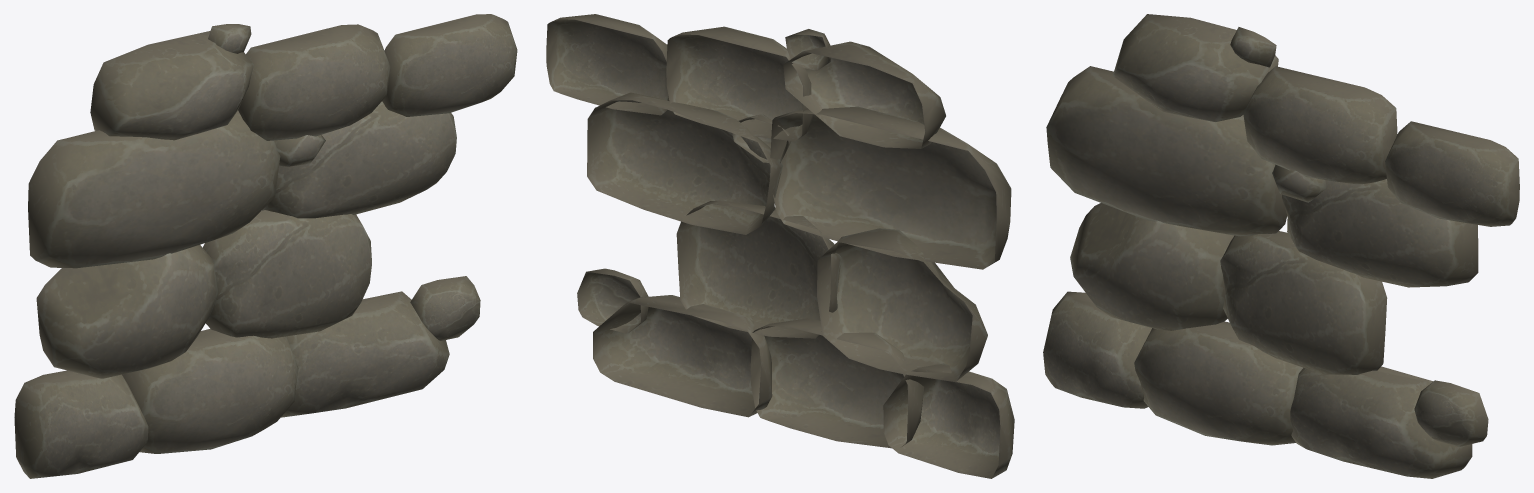
Rendered from MSH_fwOF_Ruins_Wall_Bricks_06.fbx.
3 views of the same model, side by side, from view 1: azimuth 30°, elevation 25°; view 2: azimuth 150°, elevation 25°; view 3: azimuth 330°, elevation 25° (orthographic). The views are drawn at different scales.
Parts seen in each view (by area): view 1: MSH_fwOF_Ruins_Wall_Bricks_06; view 2: MSH_fwOF_Ruins_Wall_Bricks_06; view 3: MSH_fwOF_Ruins_Wall_Bricks_06.
Part boxes in pixels (x1,y1,x2,y2): MSH_fwOF_Ruins_Wall_Bricks_06: [14, 14, 517, 478]; MSH_fwOF_Ruins_Wall_Bricks_06: [546, 14, 1014, 478]; MSH_fwOF_Ruins_Wall_Bricks_06: [1043, 14, 1519, 478].
Bounding box in the file's own units: 2.42 × 1.97 × 0.3327.
